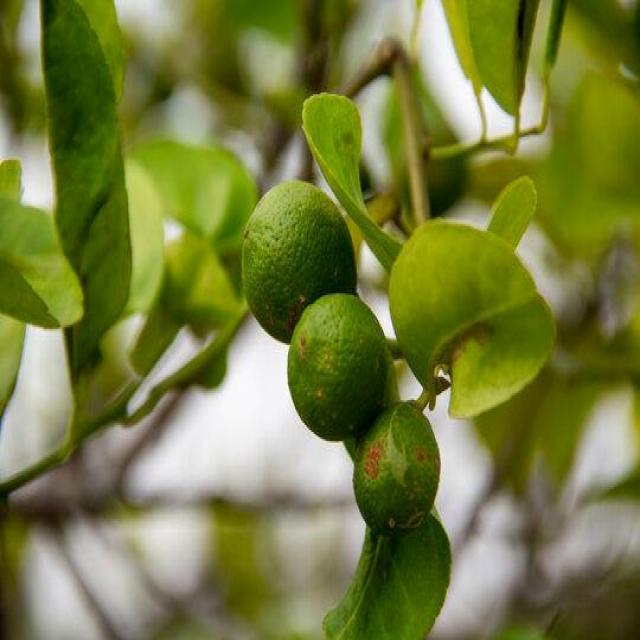Jeruk Belum Matang: (242, 180, 362, 343), (287, 295, 387, 441), (352, 399, 440, 534)
